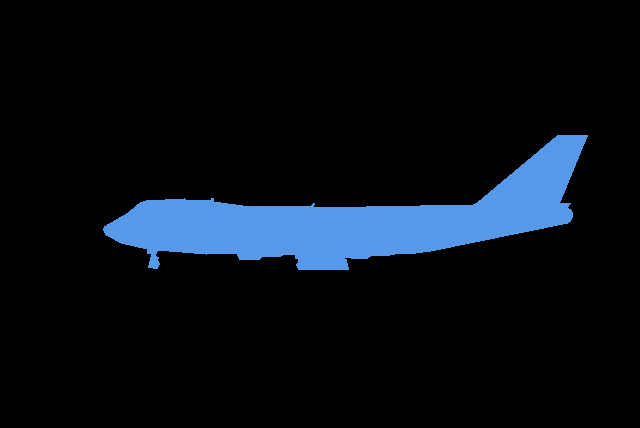Airplane: (103, 135, 587, 270)
